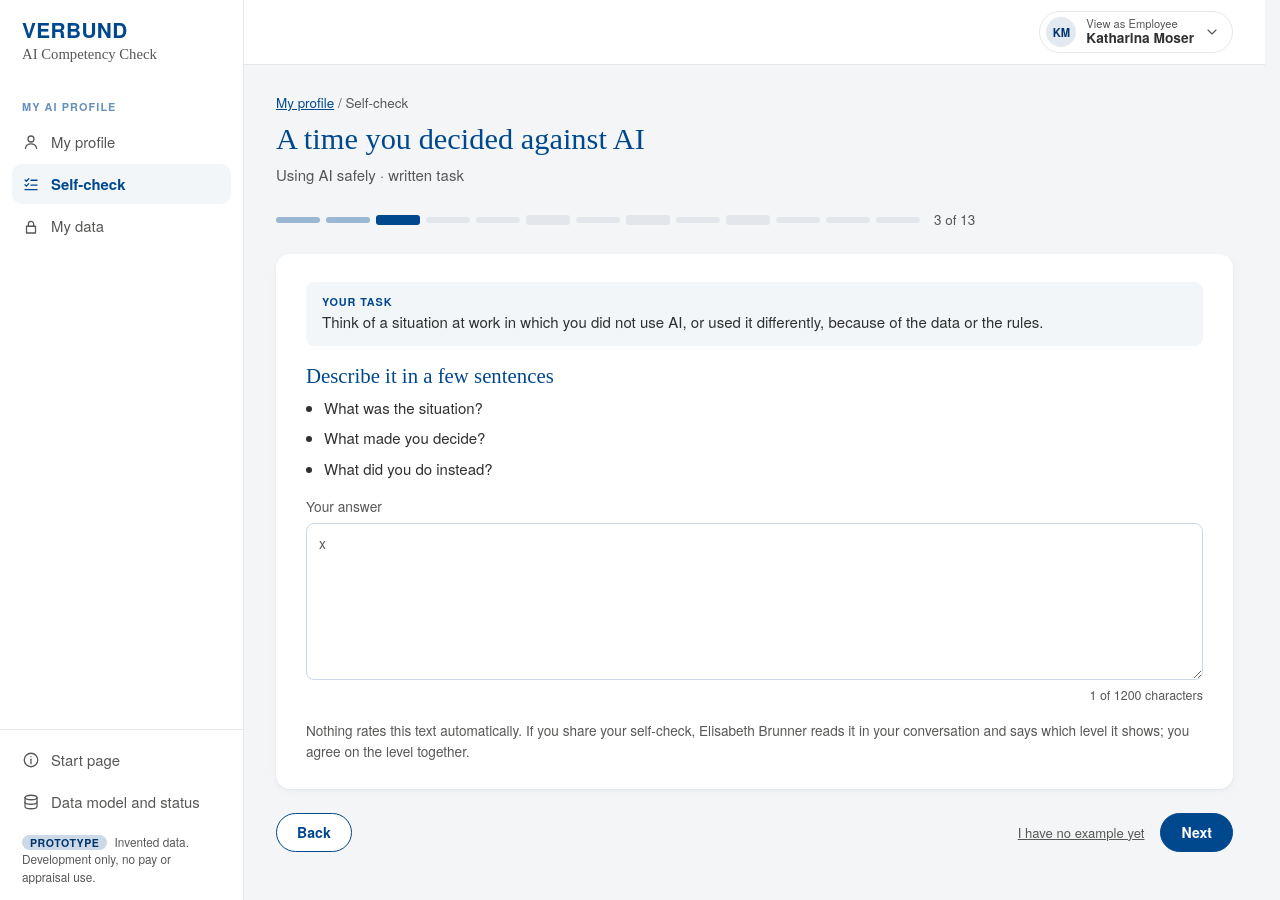
it: the journey of one person › goes from the self-check through the conversation to the totals for HR
Earlier steps of the test are not shown.
Later steps or results of the test are not shown.
Check: the button "Next" is enabled, box [1160,813,1233,852]
Replace the text in the text box labelled "Your answer" with "The tool suggested a bearing. I compared it with the vibration data and the last inspection and found a loose mounting instead." at x=754, y=601, box [306,523,1203,680]
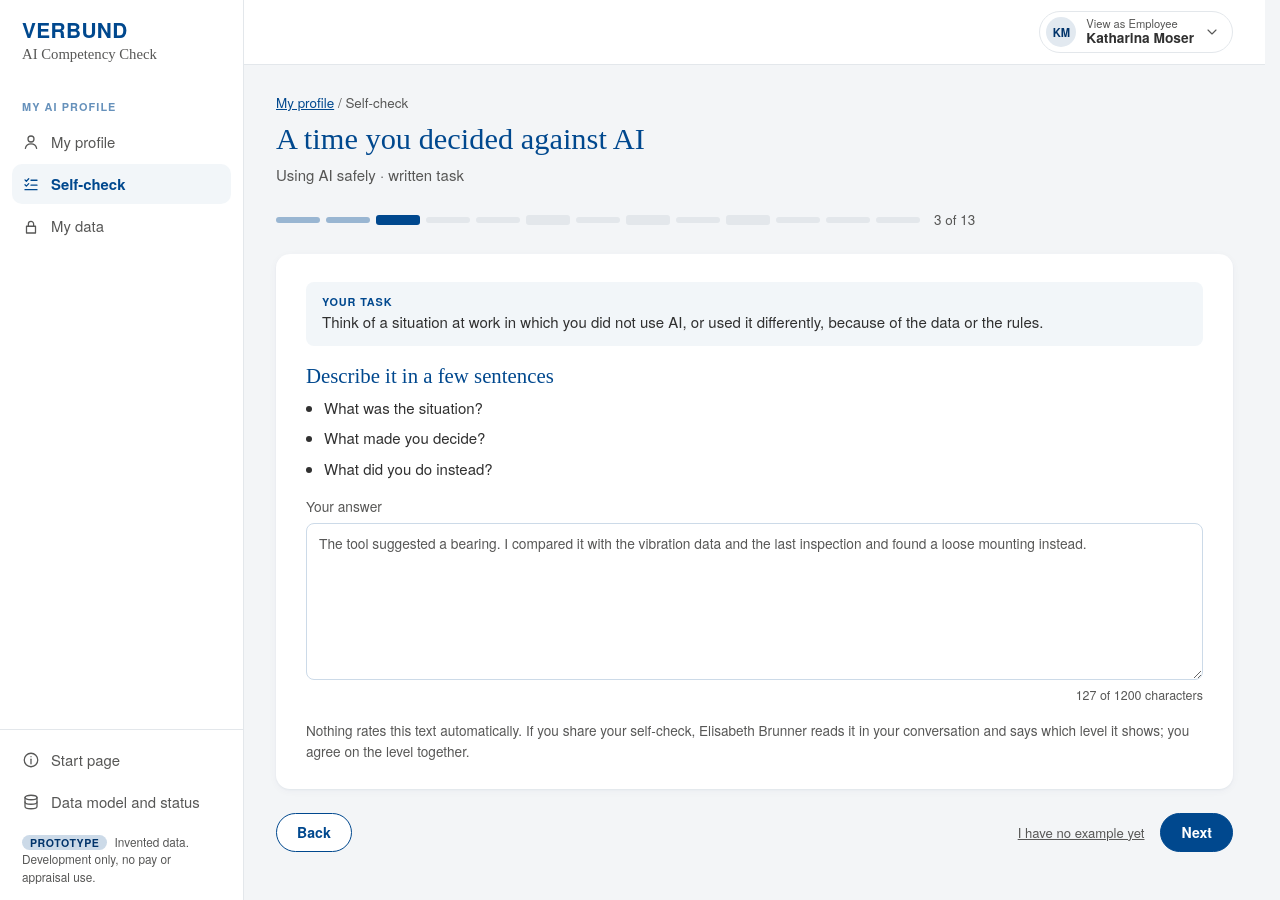
Click the button "Next".
click(1197, 833)  # box [1160,813,1233,852]
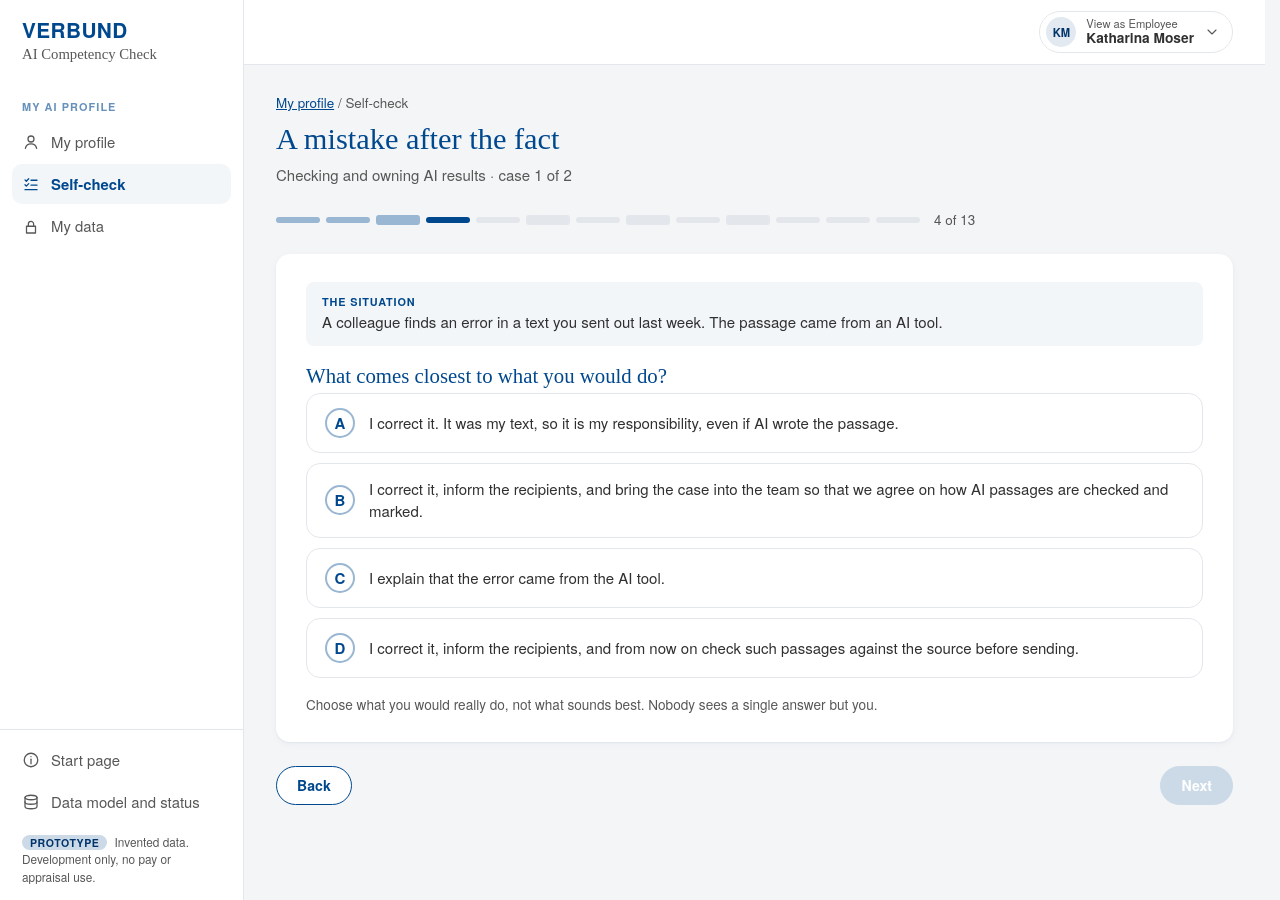
Check: the button "Next" is disabled, box [1160,766,1233,805]
Click the 2nd radio button.
click(754, 500)  # box [306,463,1203,538]
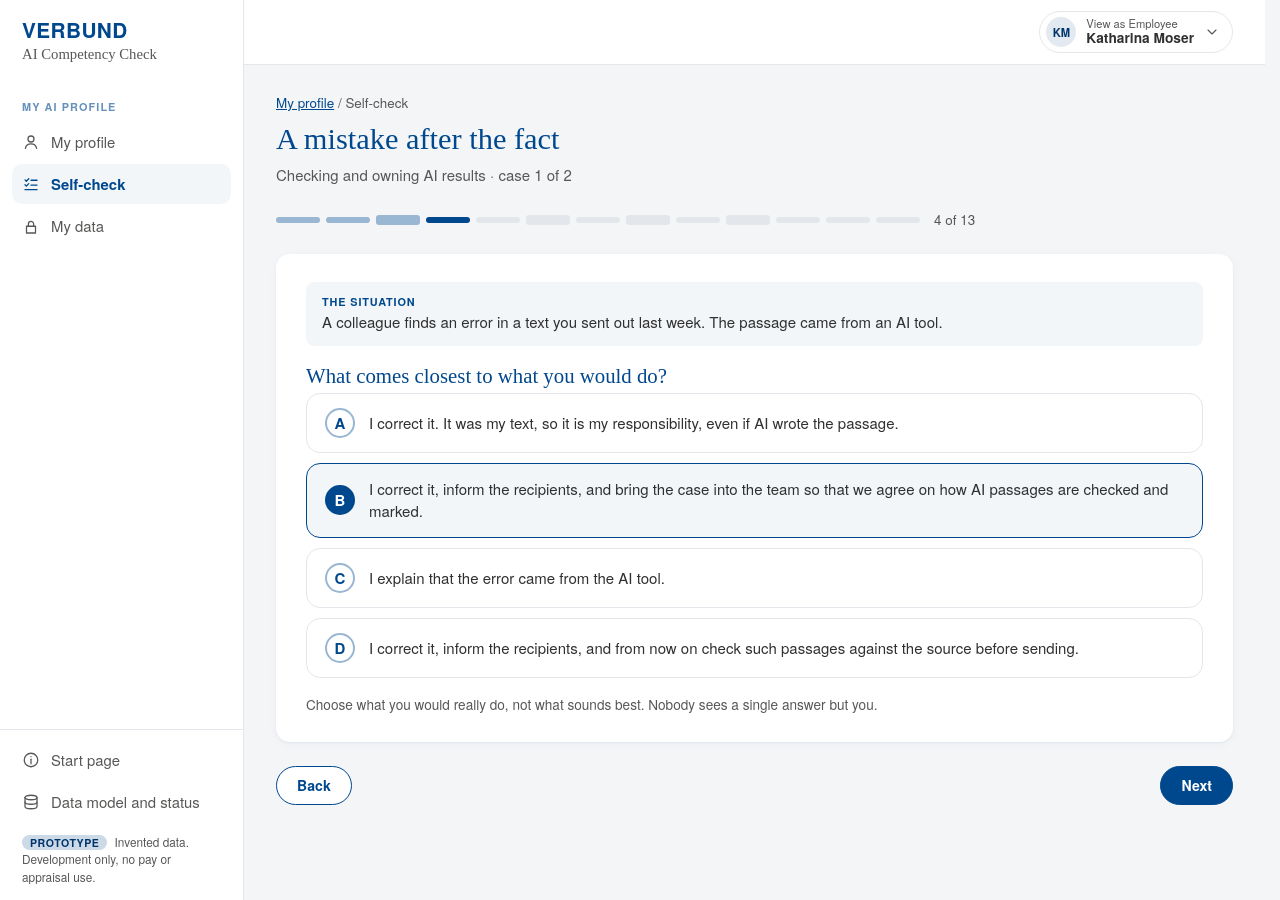
Check: the button "Next" is enabled
Click the button "Next".
click(1197, 786)  # box [1160,766,1233,805]
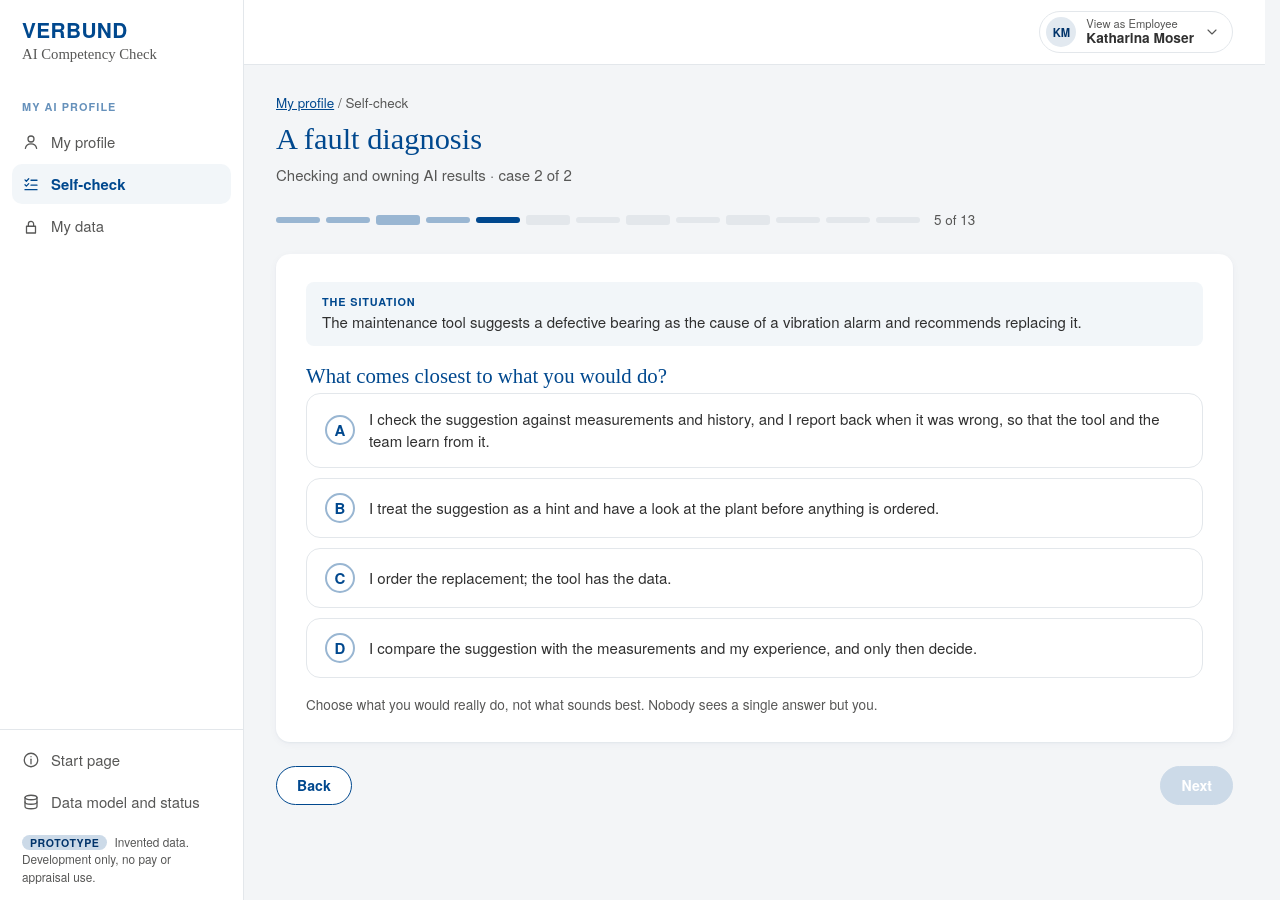
Check: the button "Next" is disabled, box [1160,766,1233,805]
Click the 2nd radio button.
click(754, 508)  # box [306,478,1203,538]
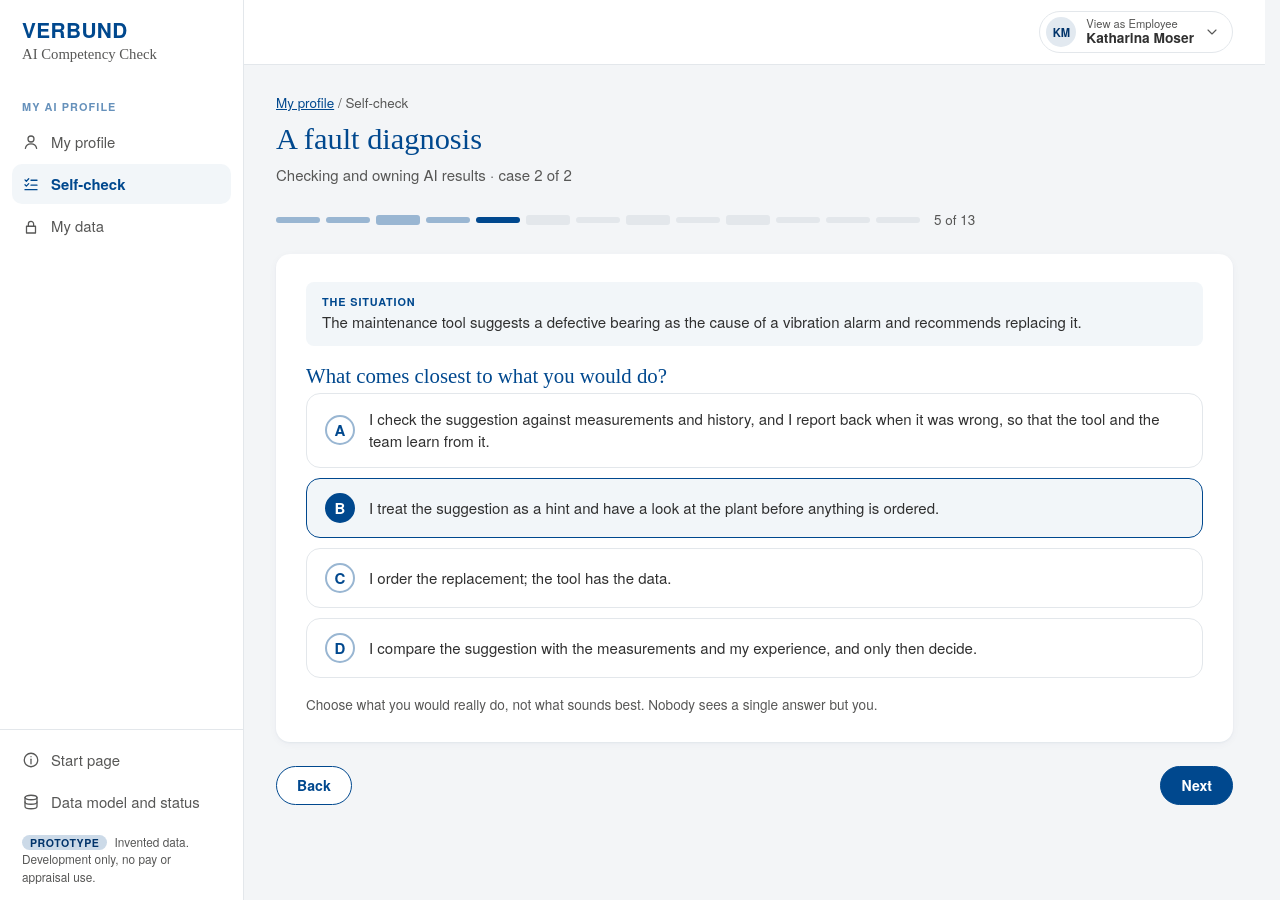
Check: the button "Next" is enabled
Click the button "Next".
click(1197, 786)  # box [1160,766,1233,805]
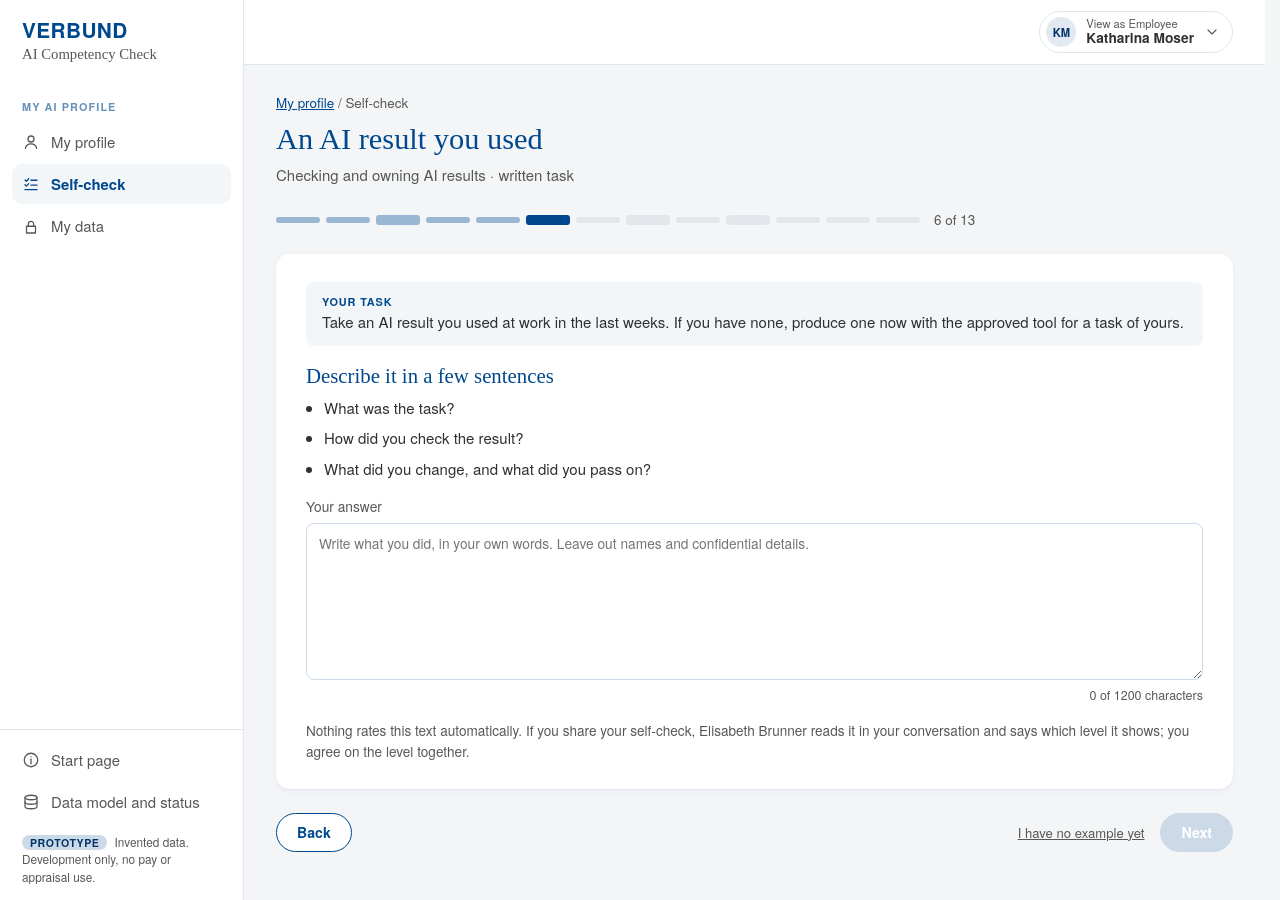
Check: the button "Next" is disabled, box [1160,813,1233,852]
Check: no radio buttons are shown
